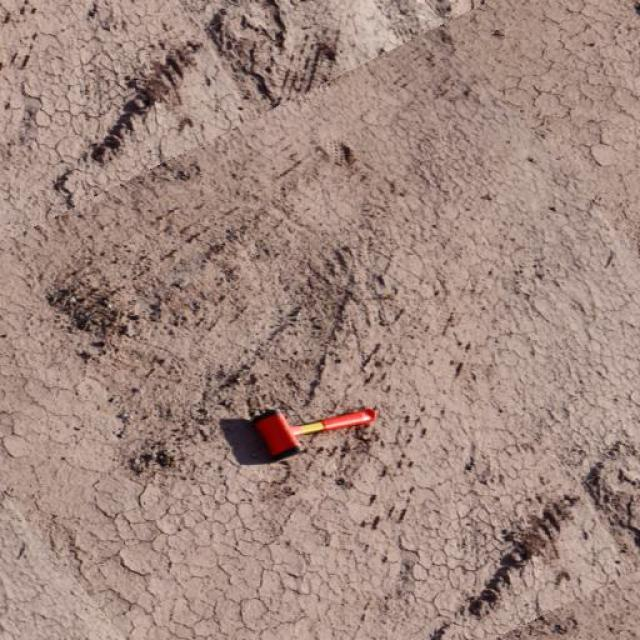mallet: (250, 405, 378, 457)
